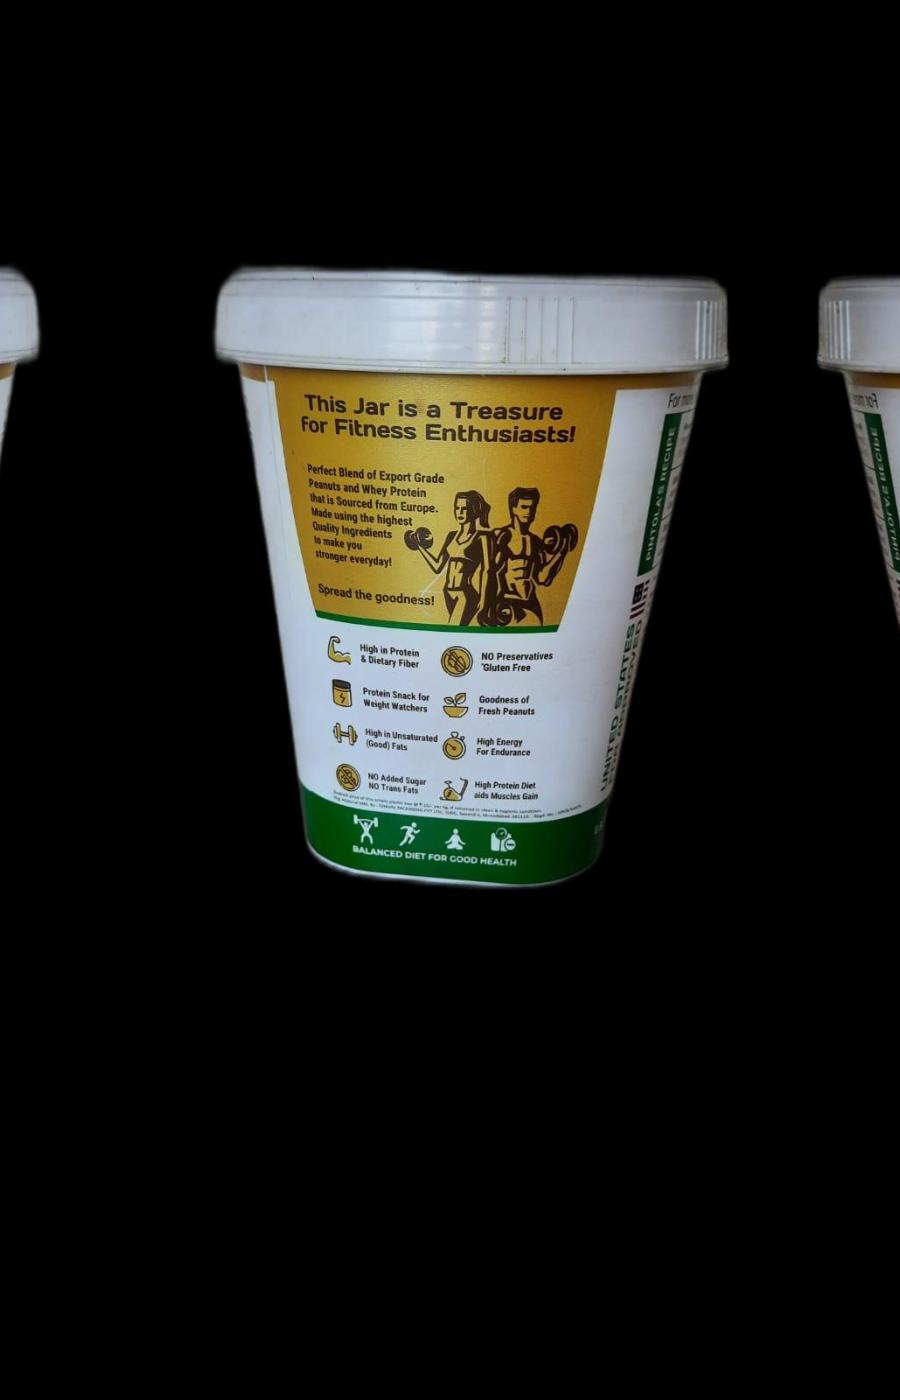Pintola High Protein Peanut Butter-510 gm-: (200, 240, 731, 908)
